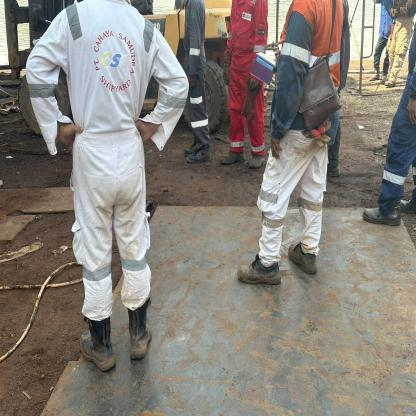bota: (76, 314, 118, 374), (123, 303, 153, 358), (360, 199, 403, 230), (236, 258, 281, 286), (287, 238, 319, 276), (219, 150, 246, 165), (401, 193, 416, 218), (187, 146, 210, 162), (246, 151, 265, 168), (183, 144, 199, 156)
